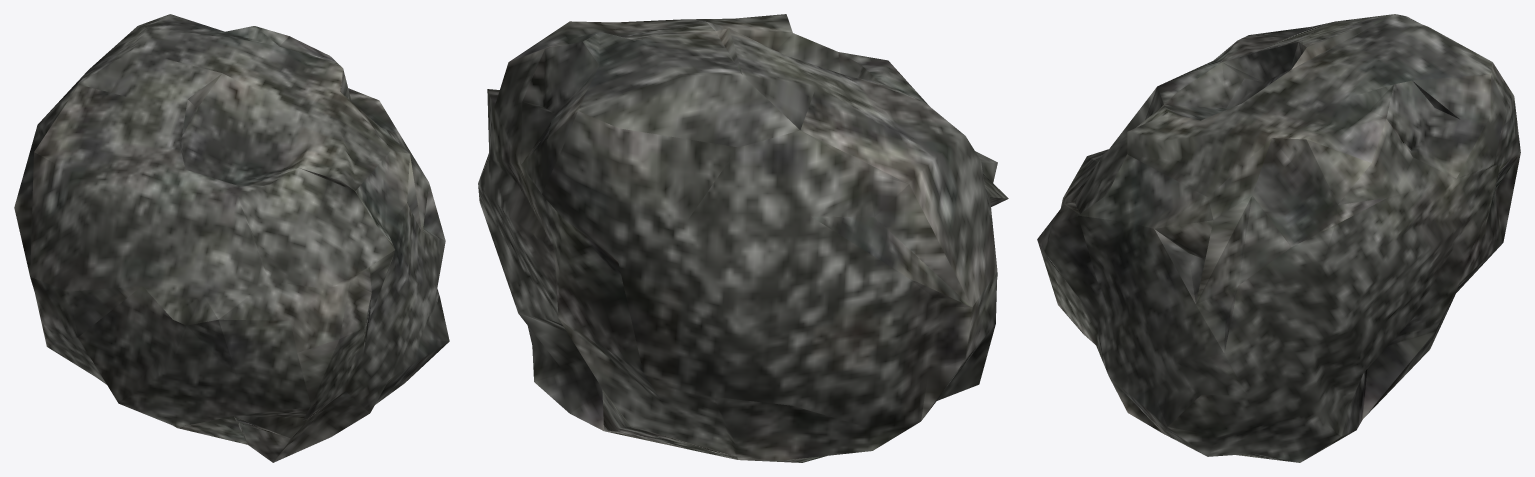
The model's file is asteroid-1-lod1.glb.
3 renders of one model, left to right at view 1: azimuth 30°, elevation 25°; view 2: azimuth 150°, elevation 25°; view 3: azimuth 270°, elevation 25°, orthographic. The views are drawn at different scales.
Visible parts, largest first — view 1: asteroid-1-lod1; view 2: asteroid-1-lod1; view 3: asteroid-1-lod1.
Boxes of the visible parts, x1,y1,x2,y2 form: asteroid-1-lod1: (14,14,449,462); asteroid-1-lod1: (478,14,1008,462); asteroid-1-lod1: (1037,14,1520,462).
Bounding box in the file's own units: 1.94 × 1.78 × 1.96.
1 material, 1 textured.
